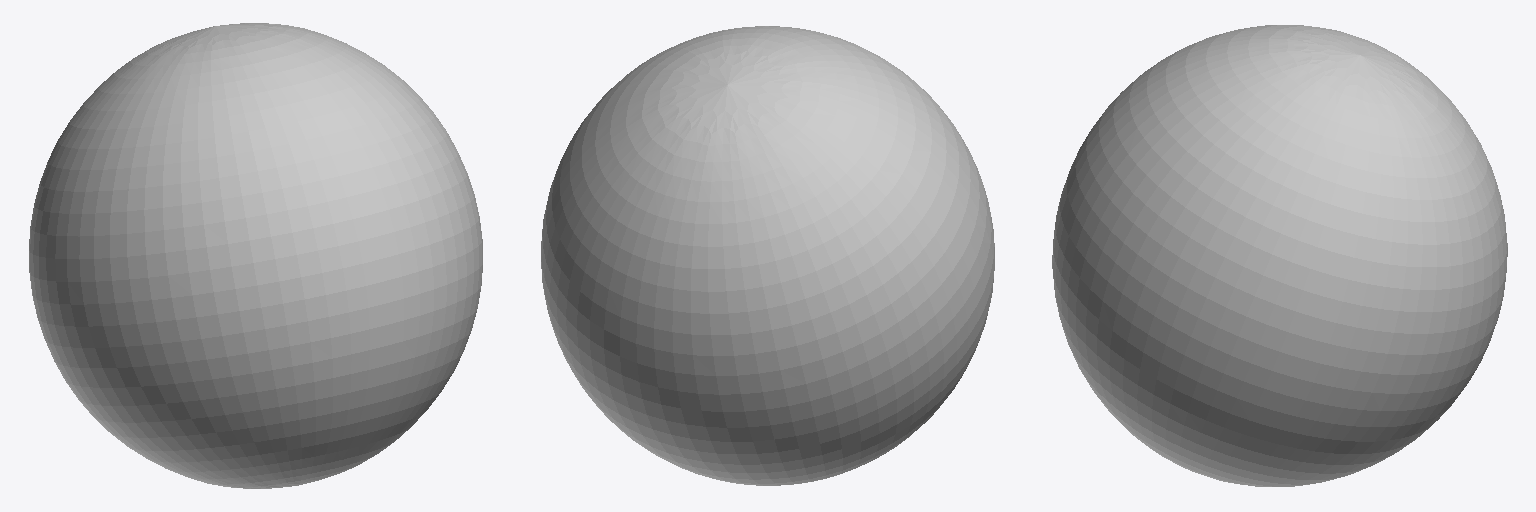
The model's file is ball3.obj.
3 views of the same model, side by side, from view 1: azimuth 30°, elevation 25°; view 2: azimuth 150°, elevation 25°; view 3: azimuth 270°, elevation 25° (orthographic).
Parts seen in each view (by area): view 1: Sphere01.015; view 2: Sphere01.015; view 3: Sphere01.015.
Part boxes in pixels (x1,y1,x2,y2): Sphere01.015: (29, 23, 482, 488); Sphere01.015: (541, 26, 994, 485); Sphere01.015: (1052, 25, 1507, 486).
Size of the model in its own units: 5.45 by 5.58 by 5.46.